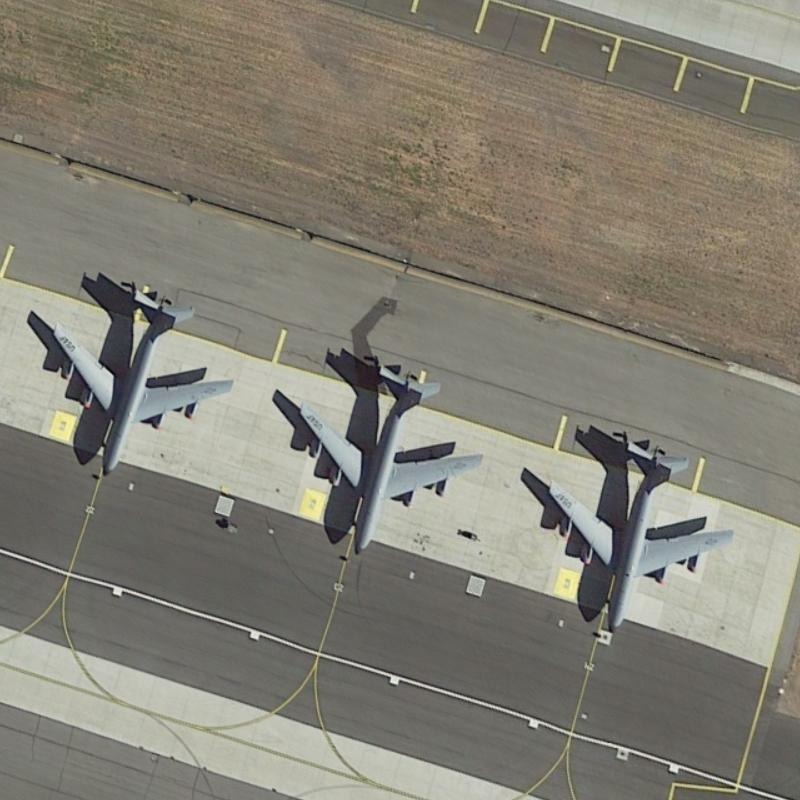A14: (536, 431, 744, 638), (287, 360, 489, 559), (48, 285, 231, 478)
